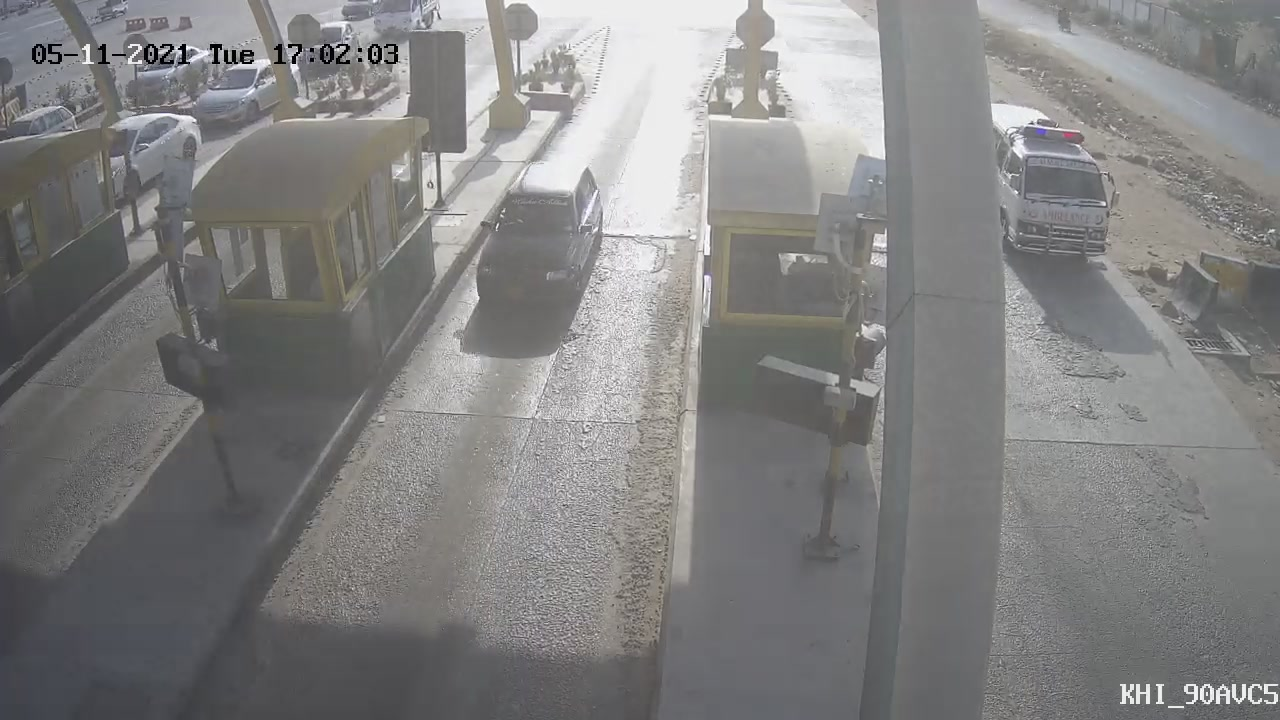F1: (457, 149, 624, 335)
